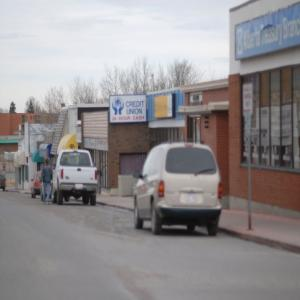Vehicle-registration-plate: (188, 193, 199, 203), (76, 184, 85, 192)
